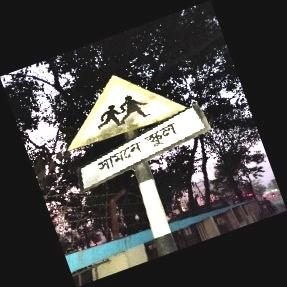School-in-front: (70, 73, 208, 190)
